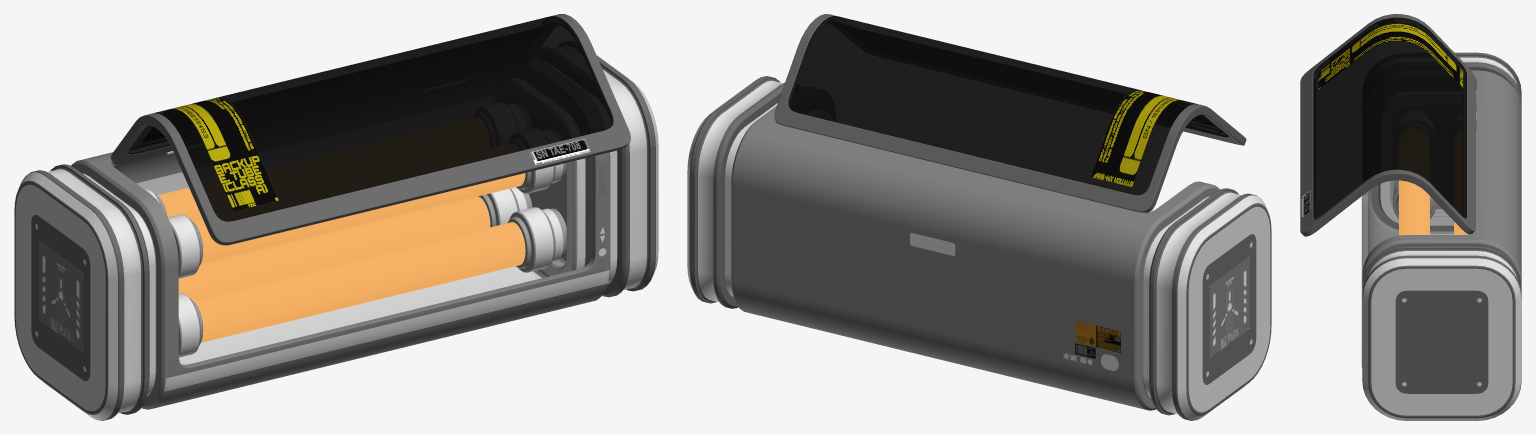
File: Sketchfab_model.fbx
3 renders of one model, left to right at view 1: azimuth 30°, elevation 25°; view 2: azimuth 150°, elevation 25°; view 3: azimuth 270°, elevation 25°, orthographic. The views are drawn at different scales.
Visible parts, largest first — view 1: Slice.002_24, Cylinder.001_34, Cube_19, Slice_18, Slice.001_25, BB Trim 4_020_16, BB Trim 2_015_14, BB Trim 2_005_2, BB Trim 2_009_4, Litah Length_008_projected_23, BB Trim 2_024_27, BB Trim 3_003_15 (+9 smaller); view 2: Cube_19, Slice.002_24, Slice_18, Slice.001_25, BB Trim 2_015_14, BB Trim 4_020_16, Litah Length_008_projected_23, BB Trim 3_003_15, 00_Blue_Xen1_033_BXDP_decal.011c_13, BB Trim 1_026_1, Nux Null_017_11, Blenderbros SciFi Vent Pack_044_10; view 3: Slice.002_24, Slice_18, Cube_19, BB Trim 4_020_16, Slice.001_25, BB Trim 3_003_15, Litah Length_008_projected_23, Cylinder.001_34, BB Trim 2_015_14, BB Trim 2_010_29, Cube.003_32, BB Trim 2_009_4 (+1 smaller).
Boxes of the visible parts, bbox=[...] form: Slice.002_24: bbox=[127, 16, 613, 221]; Cylinder.001_34: bbox=[157, 173, 525, 342]; Cube_19: bbox=[71, 152, 610, 409]; Slice_18: bbox=[14, 56, 655, 420]; Slice.001_25: bbox=[110, 14, 630, 245]; BB Trim 4_020_16: bbox=[15, 184, 105, 411]; BB Trim 2_015_14: bbox=[47, 70, 646, 413]; BB Trim 2_005_2: bbox=[179, 266, 541, 364]; BB Trim 2_009_4: bbox=[164, 270, 609, 391]; Litah Length_008_projected_23: bbox=[171, 97, 278, 211]; BB Trim 2_024_27: bbox=[144, 166, 553, 357]; BB Trim 3_003_15: bbox=[14, 55, 658, 420]; Cube_19: bbox=[731, 106, 1219, 410]; Slice.002_24: bbox=[788, 16, 1228, 195]; Slice_18: bbox=[689, 76, 1271, 420]; Slice.001_25: bbox=[774, 14, 1246, 212]; BB Trim 2_015_14: bbox=[698, 80, 1241, 414]; BB Trim 4_020_16: bbox=[1188, 206, 1270, 412]; Litah Length_008_projected_23: bbox=[1090, 90, 1181, 187]; BB Trim 3_003_15: bbox=[687, 77, 1271, 420]; 00_Blue_Xen1_033_BXDP_decal.011c_13: bbox=[1209, 257, 1249, 357]; BB Trim 1_026_1: bbox=[725, 103, 1209, 398]; Nux Null_017_11: bbox=[1075, 320, 1120, 352]; Blenderbros SciFi Vent Pack_044_10: bbox=[910, 233, 955, 255]; Slice.002_24: bbox=[1313, 17, 1466, 219]; Slice_18: bbox=[1362, 52, 1521, 418]; Cube_19: bbox=[1362, 70, 1521, 284]; BB Trim 4_020_16: bbox=[1371, 268, 1512, 415]; Slice.001_25: bbox=[1300, 14, 1475, 236]; BB Trim 3_003_15: bbox=[1362, 53, 1521, 420]; Litah Length_008_projected_23: bbox=[1318, 23, 1463, 89]; Cylinder.001_34: bbox=[1399, 130, 1476, 235]; BB Trim 2_015_14: bbox=[1367, 57, 1516, 277]; BB Trim 2_010_29: bbox=[1380, 97, 1476, 225]; Cube.003_32: bbox=[1378, 94, 1476, 226]; BB Trim 2_009_4: bbox=[1361, 197, 1362, 367].
Bounding box in the file's own units: 131 × 65.11 × 57.99.
